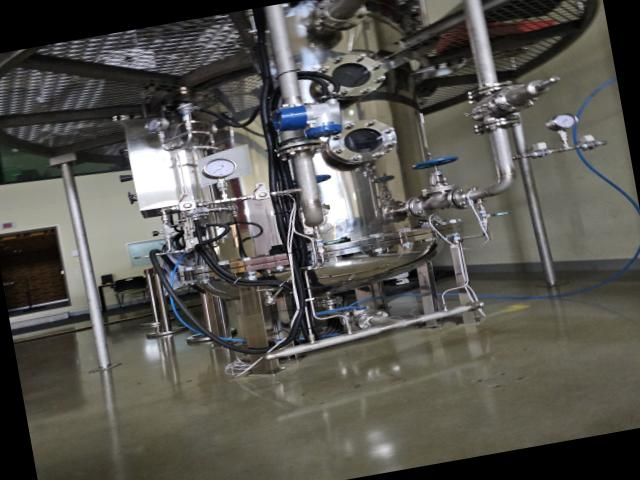Flange: (308, 47, 391, 105), (323, 114, 399, 168)
Flush Ring: (311, 0, 373, 34), (286, 204, 340, 238), (466, 78, 520, 103), (276, 136, 326, 161), (444, 181, 485, 211), (472, 113, 522, 136), (353, 306, 392, 332), (406, 193, 438, 218)
GasRegulator: (141, 96, 221, 163)
Nuts: (174, 196, 201, 213), (249, 186, 274, 203), (527, 146, 555, 160), (578, 138, 603, 150)
Piston Valve: (410, 154, 465, 196), (290, 171, 337, 214)
Pressure Gage: (199, 154, 243, 202), (543, 110, 582, 150)
